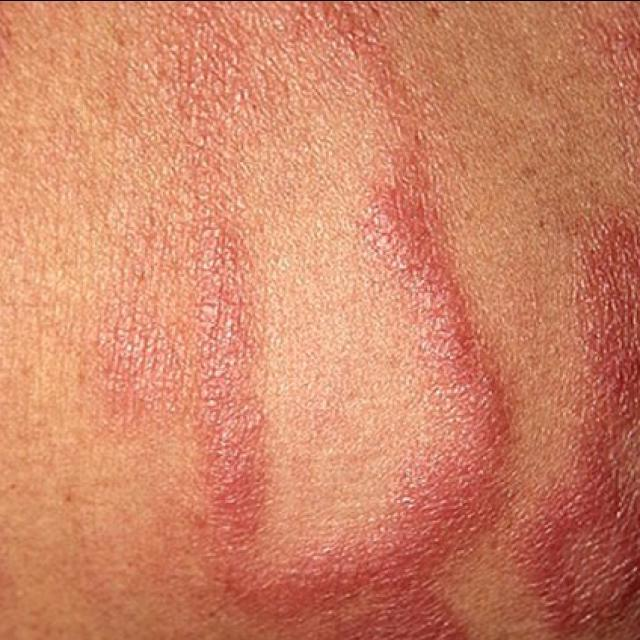Leprosy: (104, 0, 513, 640), (527, 162, 640, 640)
